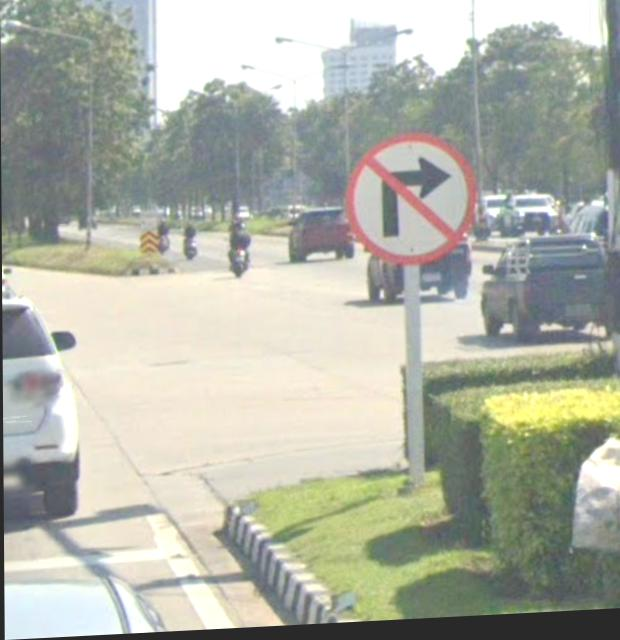not_turn_right: (347, 134, 482, 274)
